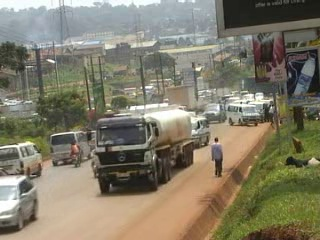Car: (0, 171, 43, 231), (199, 102, 227, 125)
Motorcycle: (85, 144, 102, 178), (67, 138, 83, 168)
